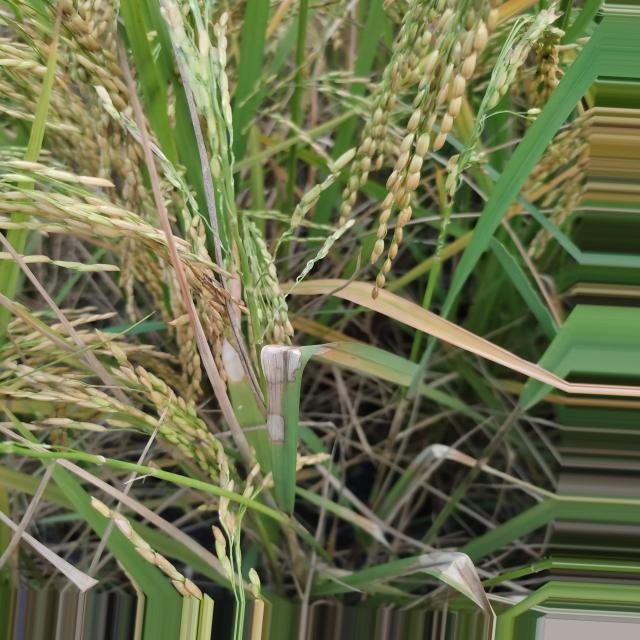Leaf_Blast: (335, 281, 640, 396), (292, 279, 345, 295)
Rice False Smut: (412, 552, 495, 640), (260, 345, 302, 442), (222, 340, 245, 382)
